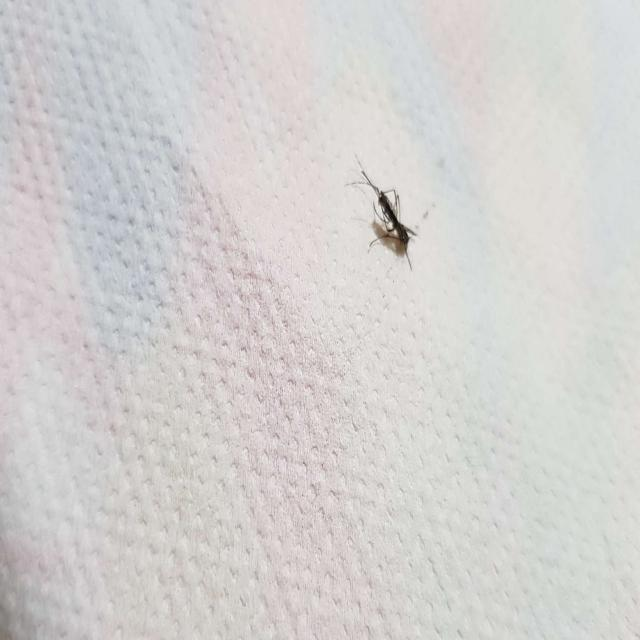albopictus: (346, 142, 424, 270)
